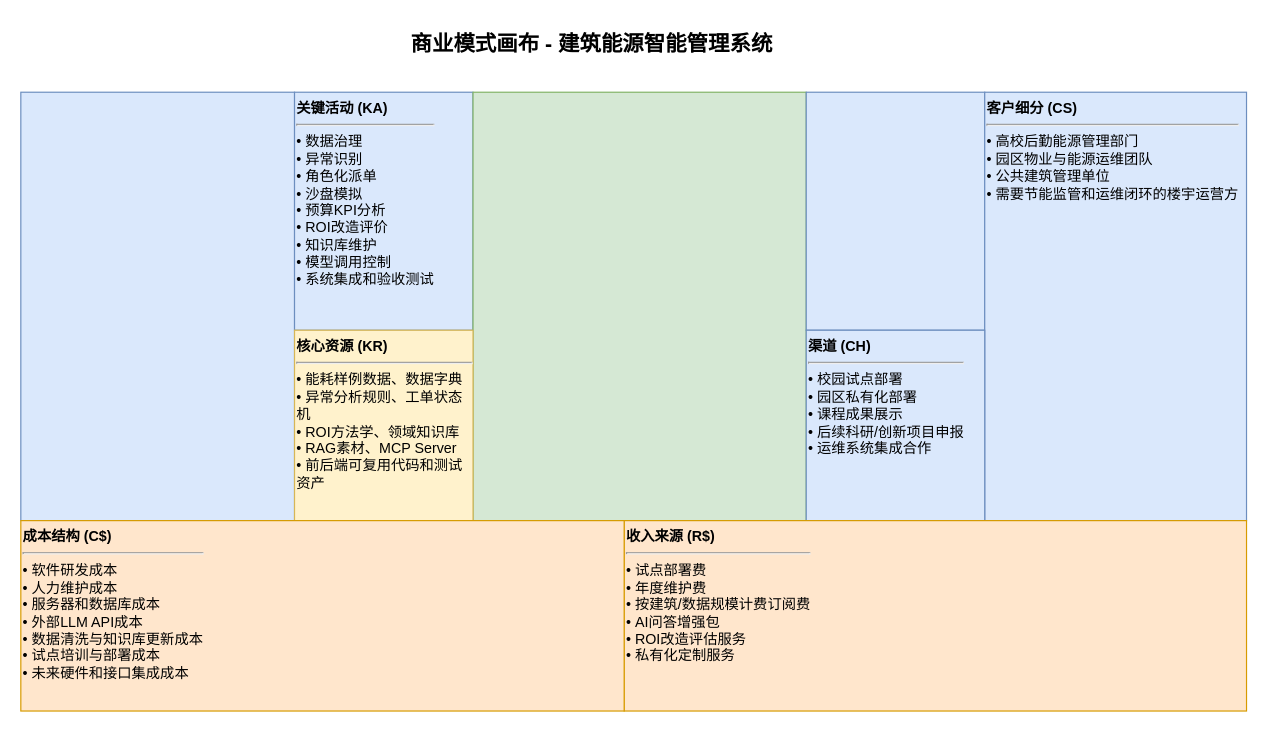
Image size: 1267x732. Some labels were removed from this diagram. The centre of each missing label's shape, as x and y in pixels:
"价值主张 (VP) 将分散能耗数据转化为： • 可解释的异常、损失、优先级 • 工单、预算影响、ROI决策 用AI问答+MCP能力降低查询、报告和运维沟通成本" belongs at [639,306].
"关键合作 (KP) • 高校后勤部门 • 物业运维团队 • 云资源提供方 • 大模型API服务方 • 设备和楼控系统供应商 • 课程/实验室支持方" belongs at [157,306].
"客户关系 (CR) • 试点共创 • 按建筑/设备持续复核收益 • 月度运行报告 • 规则与知识库维护 • 用户培训和验收支持" belongs at [895,210].
